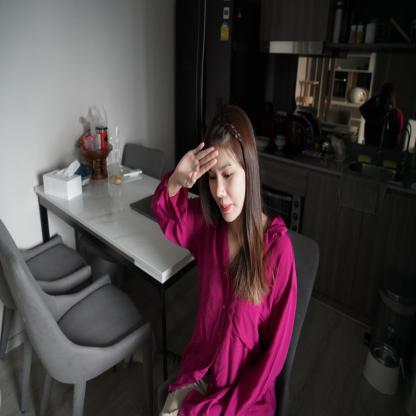Sick: (165, 134, 224, 194)
